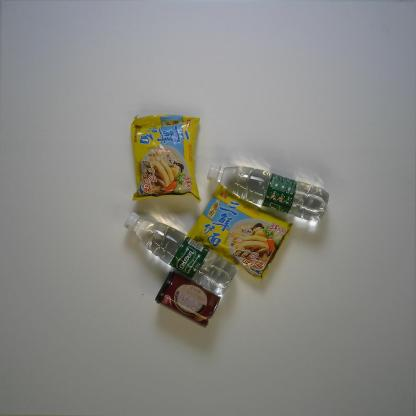Canned Food: (154, 271, 222, 328)
Drink: (124, 212, 238, 297), (206, 162, 330, 223)
Instant Noodles: (186, 185, 296, 284), (130, 114, 201, 204)
